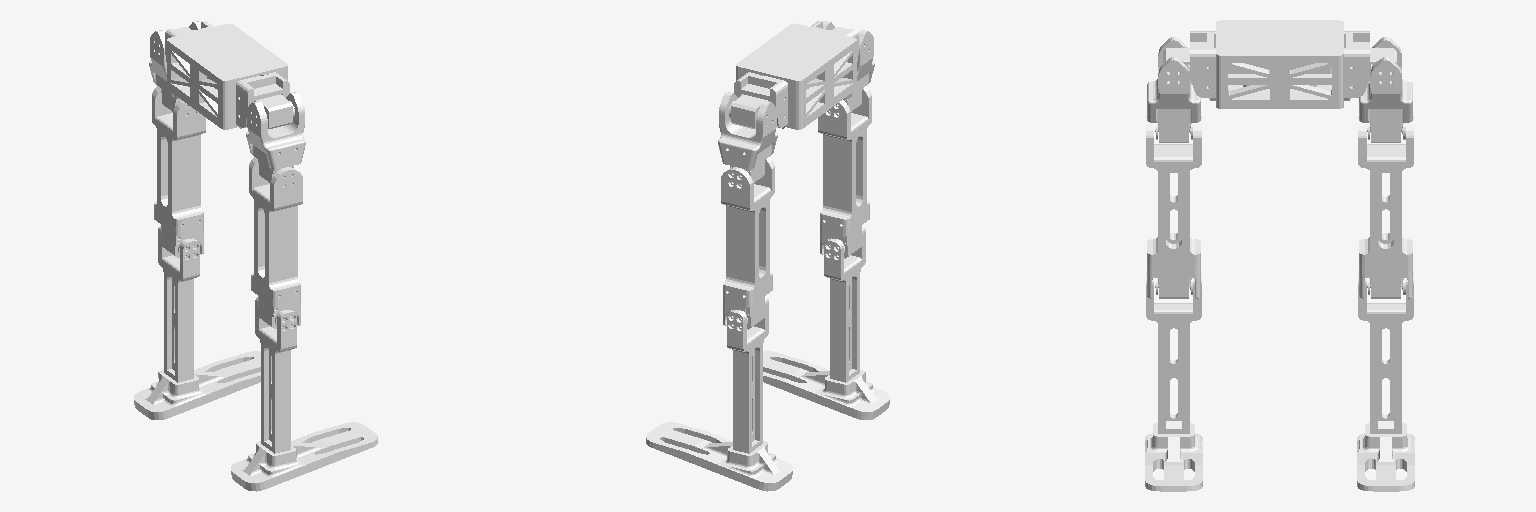
robot.urdf — NewLeggyBot:
<?xml version="1.0" encoding="utf-8"?>
<!-- This URDF was automatically created by SolidWorks to URDF Exporter! Originally created by Stephen Brawner (brawner@gmail.com) 
     Commit Version: 1.6.0-4-g7f85cfe  Build Version: 1.6.7995.38578
     For more information, please see http://wiki.ros.org/sw_urdf_exporter -->
<robot
  name="NewLeggyBot">
  <link
    name="FloatingBase">
    <inertial>
      <origin
        xyz="-0.0239 0.11149 0.48454"
        rpy="0 0 0" />
      <mass
        value="0.542" />
      <inertia
        ixx="0.0012936"
        ixy="2.5317E-11"
        ixz="5.4561E-08"
        iyy="0.00037886"
        iyz="-9.6504E-11"
        izz="0.0011305" />
    </inertial>
    <visual>
      <origin
        xyz="0.0029341 0.21327 0.45025"
        rpy="1.5708 0 -1.5708" />
      <geometry>
        <mesh
          filename="package://NewLeggyBot/meshes/FloatingBase.STL" />
      </geometry>
      <material
        name="">
        <color
          rgba="1 1 1 1" />
      </material>
    </visual>
    <collision
      name="base_collision">
      <origin
        xyz="-0.023766 0.11167 0.48675"
        rpy="0 0 0" />
      <geometry>
        <box
          size="0.08 0.2236 0.0564" />
      </geometry>
    </collision>
  </link>
  <link
    name="RightHip">
    <inertial>
      <origin
        xyz="-0.0001433 -0.033809 0.023766"
        rpy="0 0 0" />
      <mass
        value="0.102" />
      <inertia
        ixx="5.2172E-05"
        ixy="-2.137E-09"
        ixz="3.2038E-11"
        iyy="4.3682E-05"
        iyz="3.9052E-11"
        izz="4.6004E-05" />
    </inertial>
    <visual>
      <origin
        xyz="0 -0.035 -0.0029341"
        rpy="0 0 0" />
      <geometry>
        <mesh
          filename="package://NewLeggyBot/meshes/RightHip.STL" />
      </geometry>
      <material
        name="">
        <color
          rgba="1 1 1 1" />
      </material>
    </visual>
    <collision
      name="right_hip_collision">
      <origin
        xyz="0 -0.02904 0.02377"
        rpy="0 0 0" />
      <geometry>
        <box
          size="0.0512 0.0954 0.0534" />
      </geometry>
    </collision>
  </link>
  <joint
    name="RightBaseToHip"
    type="revolute">
    <origin
      xyz="0 0.010073 0.48525"
      rpy="1.5708 0 -1.5708" />
    <parent
      link="FloatingBase" />
    <child
      link="RightHip" />
    <axis
      xyz="0 0 1" />
    <dynamics
      damping="0.60"
      friction="0.052" />
    <limit
      lower="-0.174533"
      upper="0.785398"
      effort="2.942"
      velocity="4.712" />
  </joint>
  <link
    name="RightThigh">
    <inertial>
      <origin
        xyz="0.0049489 -0.087073 -0.0002629"
        rpy="0 0 0" />
      <mass
        value="0.154" />
      <inertia
        ixx="0.00040883"
        ixy="-1.2646E-06"
        ixz="-5.4649E-09"
        iyy="6.1873E-05"
        iyz="-4.3543E-06"
        izz="0.00043119" />
    </inertial>
    <visual>
      <origin
        xyz="0.00495 -0.133 -0.01765"
        rpy="0 0 0" />
      <geometry>
        <mesh
          filename="package://NewLeggyBot/meshes/RightThigh.STL" />
      </geometry>
      <material
        name="">
        <color
          rgba="1 1 1 1" />
      </material>
    </visual>
    <collision
      name="right_thigh_collision">
      <origin
        xyz="0 -0.085 0"
        rpy="-1.5707963267948966 0 0" />
      <geometry>
        <cylinder
          radius="0.018"
          length="0.15" />
      </geometry>
    </collision>
  </link>
  <joint
    name="RightHipToThigh"
    type="revolute">
    <origin
      xyz="-0.00495 -0.0666 0.023766"
      rpy="0 0 0" />
    <parent
      link="RightHip" />
    <child
      link="RightThigh" />
    <axis
      xyz="1 0 0" />
    <dynamics
      damping="0.60"
      friction="0.052" />
    <limit
      lower="-1.047198"
      upper="1.047198"
      effort="2.942"
      velocity="4.712" />
  </joint>
  <link
    name="RightShin">
    <inertial>
      <origin
        xyz="0.00495 -0.077346 0.00001"
        rpy="0 0 0" />
      <mass
        value="0.061" />
      <inertia
        ixx="0.00026237"
        ixy="-2.3624E-11"
        ixz="-2.7099E-13"
        iyy="2.1178E-05"
        iyz="1.1747E-07"
        izz="0.00027738" />
    </inertial>
    <visual>
      <origin
        xyz="-0.01005 -0.168 -0.01"
        rpy="0 0 0" />
      <geometry>
        <mesh
          filename="package://NewLeggyBot/meshes/RightShin.STL" />
      </geometry>
      <material
        name="">
        <color
          rgba="1 1 1 1" />
      </material>
    </visual>
    <collision
      name="right_shin_collision">
      <origin
        xyz="0 -0.07495 -0.0049497"
        rpy="1.5708 0 0" />
      <geometry>
        <cylinder
          radius="0.018"
          length="0.14" />
      </geometry>
    </collision>
  </link>
  <joint
    name="RightKnee"
    type="revolute">
    <origin
      xyz="0 -0.1646 0"
      rpy="0 0 0" />
    <parent
      link="RightThigh" />
    <child
      link="RightShin" />
    <axis
      xyz="1 0 0" />
    <dynamics
      damping="0.60"
      friction="0.052" />
    <limit
      lower="-2.094395"
      upper="0.261799"
      effort="2.942"
      velocity="4.712" />
  </joint>
  <link
    name="RightFoot">
    <inertial>
      <origin
        xyz="-1.0566E-07 -0.0162 0.0078317"
        rpy="0 0 0" />
      <mass
        value="0.069" />
      <inertia
        ixx="0.00021003"
        ixy="4.3933E-11"
        ixz="2.8916E-11"
        iyy="3.4562E-05"
        iyz="8.9283E-06"
        izz="0.0002338" />
    </inertial>
    <visual>
      <origin
        xyz="0 0 0"
        rpy="0 0 0" />
      <geometry>
        <mesh
          filename="package://NewLeggyBot/meshes/RightFoot.STL" />
      </geometry>
      <material
        name="">
        <color
          rgba="1 1 1 1" />
      </material>
    </visual>
    <collision
      name="right_foot_collision">
      <origin
        xyz="0 0 0.01486"
        rpy="0 0 0" />
      <geometry>
        <box
          size="0.055 0.16 0.02972" />
      </geometry>
    </collision>
  </link>
  <joint
    name="RightAnkle"
    type="fixed">
    <origin
      xyz="0.00495 -0.1761898 -0.035136"
      rpy="-1.4312 0 0" />
    <parent
      link="RightShin" />
    <child
      link="RightFoot" />
    <axis
      xyz="0 0 0" />
  </joint>
  <link
    name="LeftHip">
    <inertial>
      <origin
        xyz="0 -0.035 -0.0029341"
        rpy="0 0 0" />
      <mass
        value="0.102" />
      <inertia
        ixx="5.2172E-05"
        ixy="-2.137E-09"
        ixz="3.2038E-11"
        iyy="4.3682E-05"
        iyz="3.9052E-11"
        izz="4.6004E-05" />
    </inertial>
    <visual>
      <origin
        xyz="0 -0.035 -0.0029341"
        rpy="0 0 0" />
      <geometry>
        <mesh
          filename="package://NewLeggyBot/meshes/LeftHip.STL" />
      </geometry>
      <material
        name="">
        <color
          rgba="1 1 1 1" />
      </material>
    </visual>
    <collision
      name="left_hip_collision">
      <origin
        xyz="0 -0.02904 0.02377"
        rpy="0 0 0" />
      <geometry>
        <box
          size="0.0512 0.0954 0.0534" />
      </geometry>
    </collision>
  </link>
  <joint
    name="LeftBaseToHip"
    type="revolute">
    <origin
      xyz="0 0.21327 0.48525"
      rpy="1.5708 0 -1.5708" />
    <parent
      link="FloatingBase" />
    <child
      link="LeftHip" />
    <axis
      xyz="0 0 1" />
    <dynamics
      damping="0.60"
      friction="0.052" />
    <limit
      lower="-0.785398"
      upper="0.174533"
      effort="2.942"
      velocity="4.712" />
  </joint>
  <link
    name="LeftThigh">
    <inertial>
      <origin
        xyz="-8.1399E-07 -0.087073 -0.0002629"
        rpy="0 0 0" />
      <mass
        value="0.154" />
      <inertia
        ixx="0.00040883"
        ixy="-1.2646E-06"
        ixz="-5.4649E-09"
        iyy="6.1873E-05"
        iyz="-4.3543E-06"
        izz="0.00043119" />
    </inertial>
    <visual>
      <origin
        xyz="0 -0.133 -0.01765"
        rpy="0 0 0" />
      <geometry>
        <mesh
          filename="package://NewLeggyBot/meshes/LeftThigh.STL" />
      </geometry>
      <material
        name="">
        <color
          rgba="1 1 1 1" />
      </material>
    </visual>
    <collision
      name="left_thigh_collision">
      <origin
        xyz="0 -0.085 0"
        rpy="-1.5707963267948966 0 0" />
      <geometry>
        <cylinder
          radius="0.018"
          length="0.15" />
      </geometry>
    </collision>
  </link>
  <joint
    name="LeftHipToThigh"
    type="revolute">
    <origin
      xyz="0 -0.0666 0.023766"
      rpy="0 0 0" />
    <parent
      link="LeftHip" />
    <child
      link="LeftThigh" />
    <axis
      xyz="1 0 0" />
    <dynamics
      damping="0.60"
      friction="0.052" />
    <limit
      lower="-1.047198"
      upper="1.047198"
      effort="2.942"
      velocity="4.712" />
  </joint>
  <link
    name="LeftShin">
    <inertial>
      <origin
        xyz="0 -0.077346 0.00001"
        rpy="0 0 0" />
      <mass
        value="0.061" />
      <inertia
        ixx="0.00026237"
        ixy="-2.3624E-11"
        ixz="-2.7099E-13"
        iyy="2.1178E-05"
        iyz="1.1747E-07"
        izz="0.00027738" />
    </inertial>
    <visual>
      <origin
        xyz="-0.015 -0.168 -0.01"
        rpy="0 0 0" />
      <geometry>
        <mesh
          filename="package://NewLeggyBot/meshes/LeftShin.STL" />
      </geometry>
      <material
        name="">
        <color
          rgba="1 1 1 1" />
      </material>
    </visual>
    <collision
      name="left_shin_collision">
      <origin
        xyz="0 -0.07495 -0.0049497"
        rpy="1.5708 0 0" />
      <geometry>
        <cylinder
          radius="0.018"
          length="0.14" />
      </geometry>
    </collision>
  </link>
  <joint
    name="LeftKnee"
    type="revolute">
    <origin
      xyz="0 -0.1646 0"
      rpy="0 0 0" />
    <parent
      link="LeftThigh" />
    <child
      link="LeftShin" />
    <axis
      xyz="1 0 0" />
    <dynamics
      damping="0.60"
      friction="0.052" />
    <limit
      lower="-2.094395"
      upper="0.261799"
      effort="2.942"
      velocity="4.712" />
  </joint>
  <link
    name="LeftFoot">
    <inertial>
      <origin
        xyz="-1.0565E-07 -0.0162 0.0078317"
        rpy="0 0 0" />
      <mass
        value="0.069" />
      <inertia
        ixx="0.00021003"
        ixy="4.3951E-11"
        ixz="2.8907E-11"
        iyy="3.4562E-05"
        iyz="8.9283E-06"
        izz="0.0002338" />
    </inertial>
    <visual>
      <origin
        xyz="0 0 0"
        rpy="0 0 0" />
      <geometry>
        <mesh
          filename="package://NewLeggyBot/meshes/LeftFoot.STL" />
      </geometry>
      <material
        name="">
        <color
          rgba="1 1 1 1" />
      </material>
    </visual>
    <collision
      name="left_foot_collision">
      <origin
        xyz="0 0 0.01486"
        rpy="0 0 0" />
      <geometry>
        <box
          size="0.055 0.16 0.02972" />
      </geometry>
    </collision>
  </link>
  <joint
    name="LeftAnkle"
    type="fixed">
    <origin
      xyz="0 -0.1761898 -0.035136"
      rpy="-1.4312 0 0" />
    <parent
      link="LeftShin" />
    <child
      link="LeftFoot" />
    <axis
      xyz="0 0 0" />
  </joint>
  <mujoco>
    <compiler
      discardvisual="false" />
  </mujoco>
</robot>

--- Facts derived from the render (not from the file) ---
The picture shows the robot from 3 angles, left to right: view 1: azimuth 30°, elevation 25°; view 2: azimuth 150°, elevation 25°; view 3: azimuth 270°, elevation 25°; orthographic projection.
Model NewLeggyBot with 9 links and 8 joints (6 revolute, 2 fixed), rooted at FloatingBase, posed all joints at 0.
Visible links, largest first — view 1: FloatingBase, RightThigh, LeftThigh, RightFoot, LeftFoot, RightShin, LeftShin, RightHip, LeftHip; view 2: FloatingBase, LeftThigh, RightThigh, LeftFoot, RightFoot, LeftShin, RightShin, LeftHip, RightHip; view 3: FloatingBase, LeftThigh, RightThigh, LeftShin, RightShin, LeftHip, RightHip, RightFoot, LeftFoot.
Boxes of the visible links, box(x1,y1,x2,y2) form: FloatingBase: box(165, 21, 294, 129); RightThigh: box(249, 157, 302, 328); LeftThigh: box(152, 86, 205, 257); RightFoot: box(231, 422, 377, 491); LeftFoot: box(134, 351, 260, 419); RightShin: box(255, 297, 296, 453); LeftShin: box(158, 226, 199, 382); RightHip: box(246, 92, 305, 182); LeftHip: box(149, 21, 200, 111); FloatingBase: box(729, 21, 858, 129); LeftThigh: box(721, 157, 774, 329); RightThigh: box(818, 86, 871, 258); LeftFoot: box(646, 422, 792, 491); RightFoot: box(763, 351, 889, 419); LeftShin: box(727, 296, 768, 453); RightShin: box(824, 225, 865, 382); LeftHip: box(718, 92, 777, 182); RightHip: box(823, 21, 874, 111); FloatingBase: box(1163, 20, 1396, 108); LeftThigh: box(1358, 116, 1413, 298); RightThigh: box(1146, 116, 1201, 298); LeftShin: box(1358, 272, 1413, 433); RightShin: box(1146, 272, 1201, 433); LeftHip: box(1359, 37, 1412, 142); RightHip: box(1147, 37, 1200, 142); RightFoot: box(1145, 423, 1202, 491); LeftFoot: box(1357, 423, 1414, 491).
Bounding box of the posed robot: 0.1598 × 0.2582 × 0.4482 m (x, y, z).
Meshes: 9 distinct files referenced, 9 mesh visuals loaded (9 binary STL).
